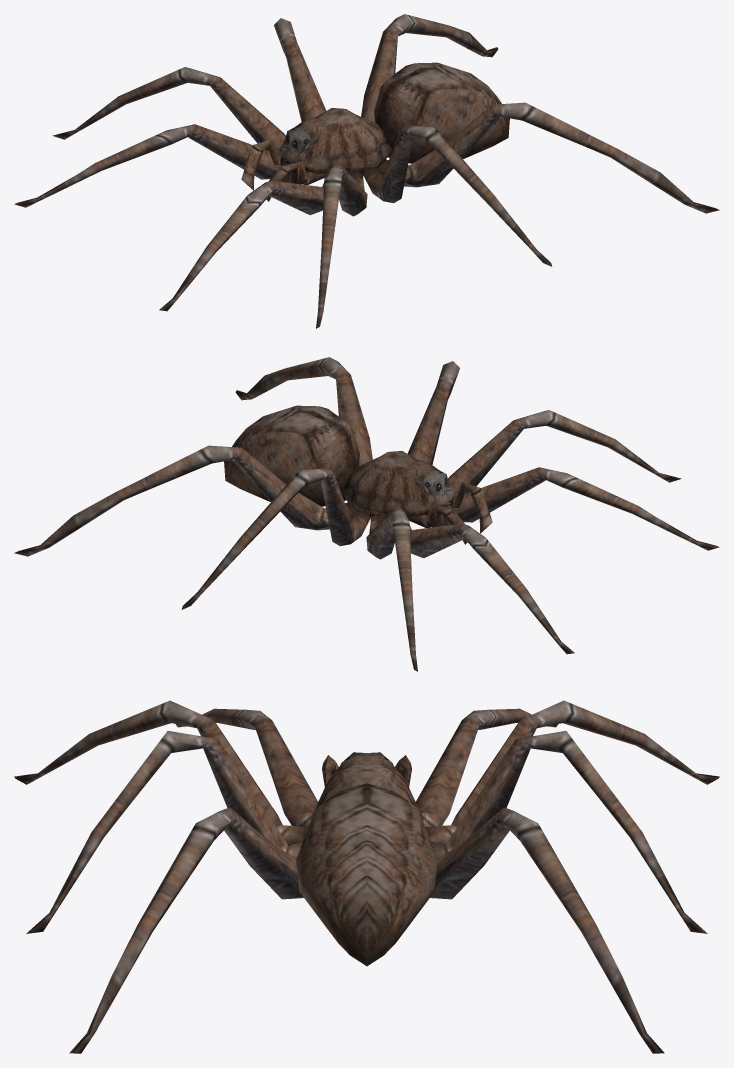
The model's file is skAragogMesh.obj.
3 views of the same model, one above another, from view 1: azimuth 30°, elevation 25°; view 2: azimuth 150°, elevation 25°; view 3: azimuth 270°, elevation 25° (orthographic). The views are drawn at different scales.
Visible parts, largest first — view 1: material_1, material_2, material_0; view 2: material_1, material_2, material_0; view 3: material_1, material_2, material_0.
Boxes of the visible parts, bbox=[...] form: material_1: bbox=[14, 14, 719, 328]; material_2: bbox=[374, 62, 509, 163]; material_0: bbox=[279, 108, 392, 176]; material_1: bbox=[14, 357, 719, 671]; material_2: bbox=[224, 405, 359, 506]; material_0: bbox=[341, 451, 454, 519]; material_1: bbox=[14, 700, 719, 1053]; material_2: bbox=[296, 783, 437, 966]; material_0: bbox=[310, 752, 423, 820].
Bounding box in the file's own units: 402 × 91.13 × 352.
Materials: 3 (3 with a texture image).
